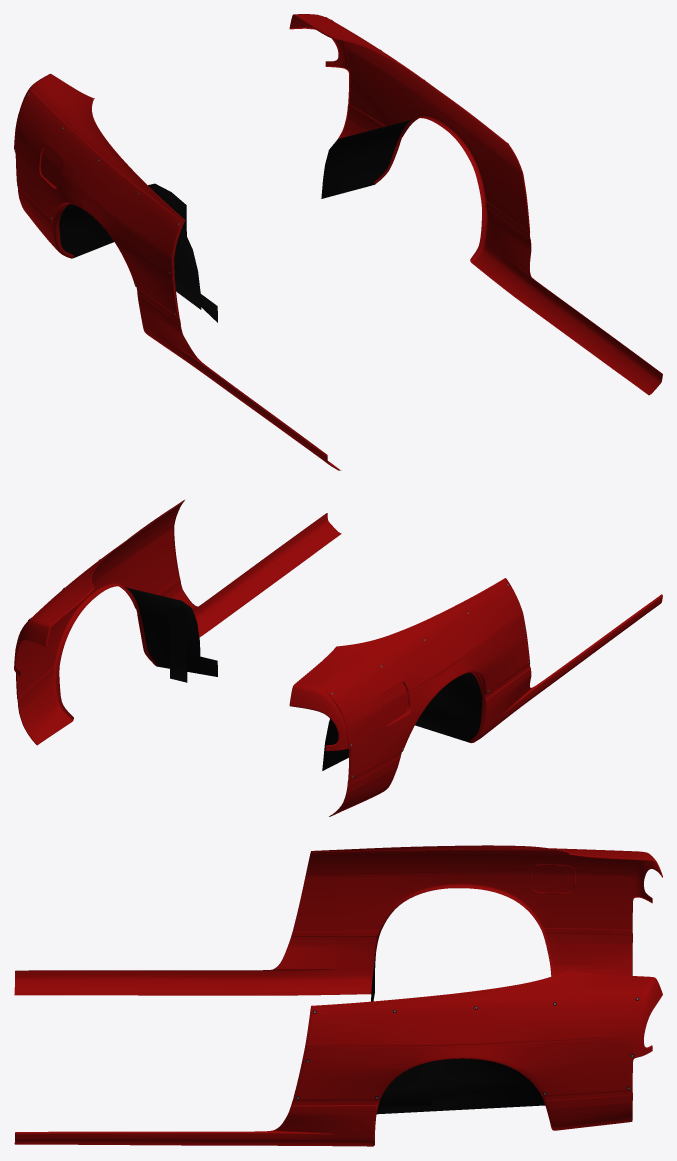
File: rearfenders_dmaxtype3.glb
The picture shows the model from 3 angles, top to bottom: view 1: azimuth 30°, elevation 25°; view 2: azimuth 150°, elevation 25°; view 3: azimuth 270°, elevation 25°; orthographic projection.
Parts seen in each view (by area): view 1: Fenders, Extensions, Undercarriage; view 2: Fenders, Extensions, Undercarriage; view 3: Fenders, Extensions, Undercarriage.
Part boxes in pixels (bbox=[...]): Fenders: bbox=[14, 14, 662, 470]; Extensions: bbox=[14, 17, 529, 317]; Undercarriage: bbox=[59, 119, 413, 322]; Fenders: bbox=[14, 500, 662, 816]; Extensions: bbox=[16, 501, 529, 779]; Undercarriage: bbox=[125, 587, 481, 770]; Fenders: bbox=[14, 845, 662, 1146]; Extensions: bbox=[294, 848, 642, 1100]; Undercarriage: bbox=[371, 955, 545, 1114].
Bounding box in the file's own units: 1.76 × 0.7374 × 2.73.
